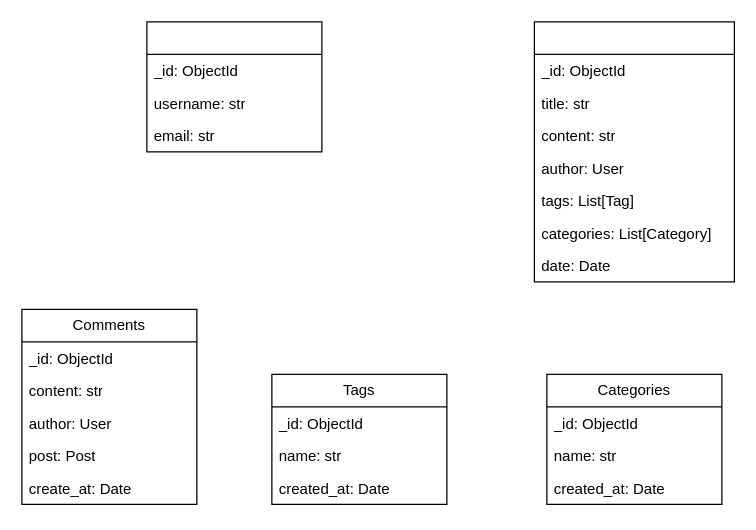
The diagram is 756 pixels wide and 530 high, and some of its shapes have lost their labels. The box of each missing label's shape, as (x1, y1, x2, y2) in pixels:
Posts: (533, 21, 734, 282)
Users: (146, 21, 322, 152)
